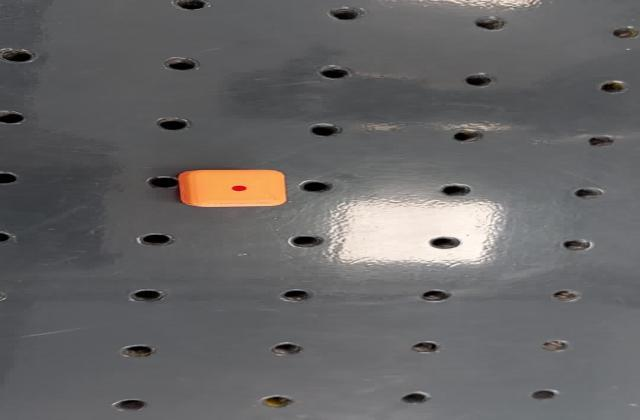cube: (164, 164, 300, 212)
